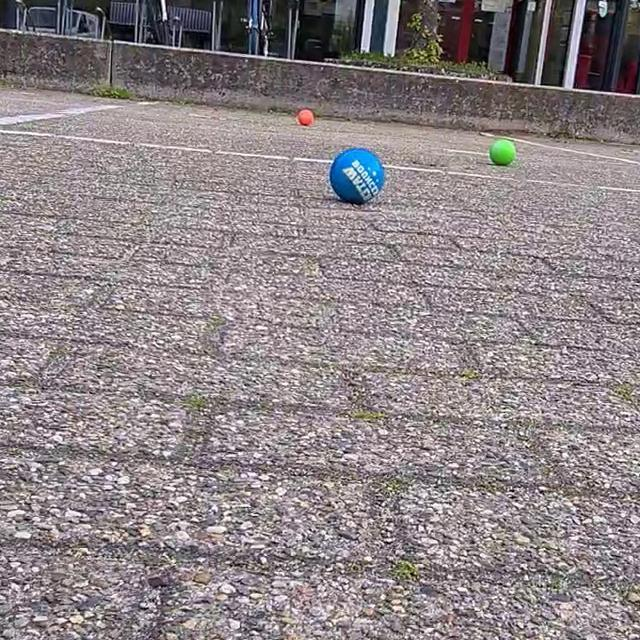ball: (488, 134, 520, 168), (296, 104, 316, 130)
